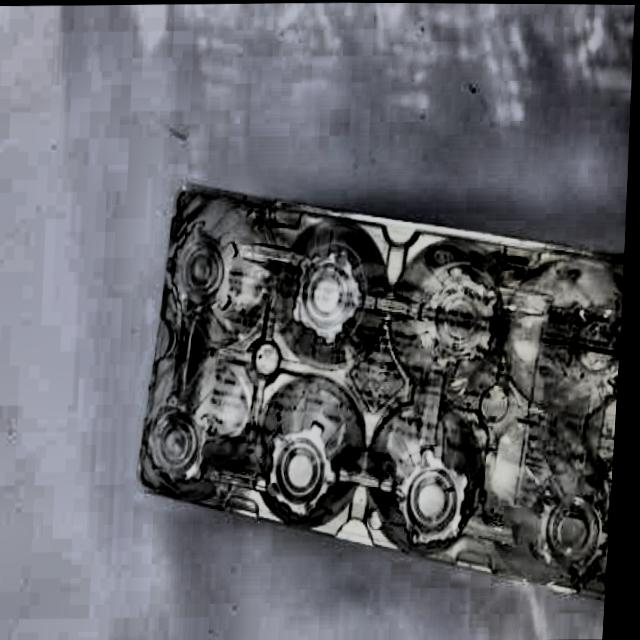Plastic: (101, 137, 629, 603)
